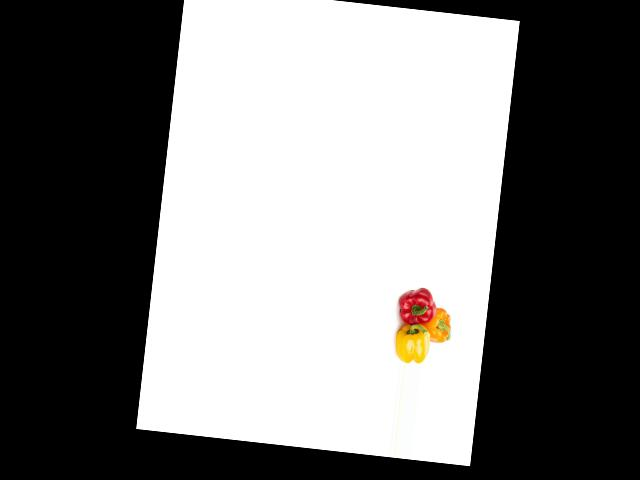bell_pepper: (390, 323, 432, 365)
